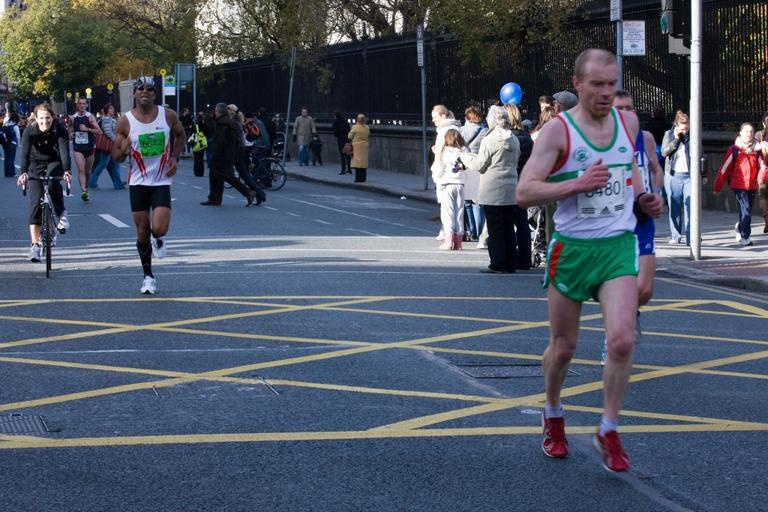non-vehicle: (21, 176, 70, 278), (223, 145, 287, 190)
